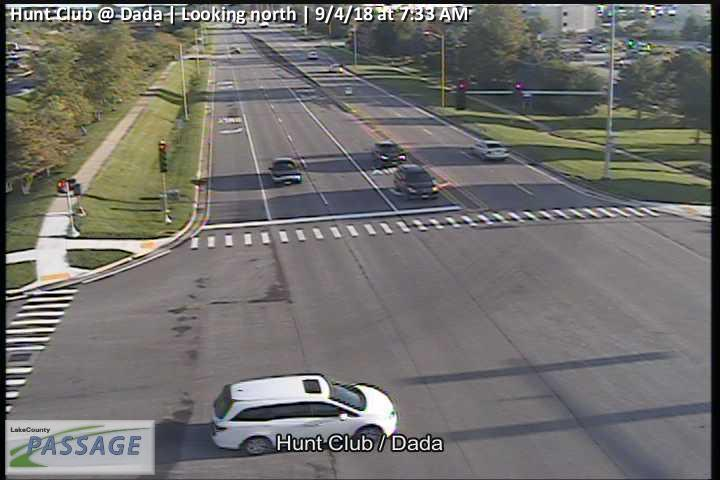SUV: (210, 373, 398, 455), (394, 163, 438, 202)
Sedan: (268, 157, 302, 185), (471, 139, 510, 162), (372, 142, 406, 167), (329, 64, 342, 72), (307, 52, 319, 58)
